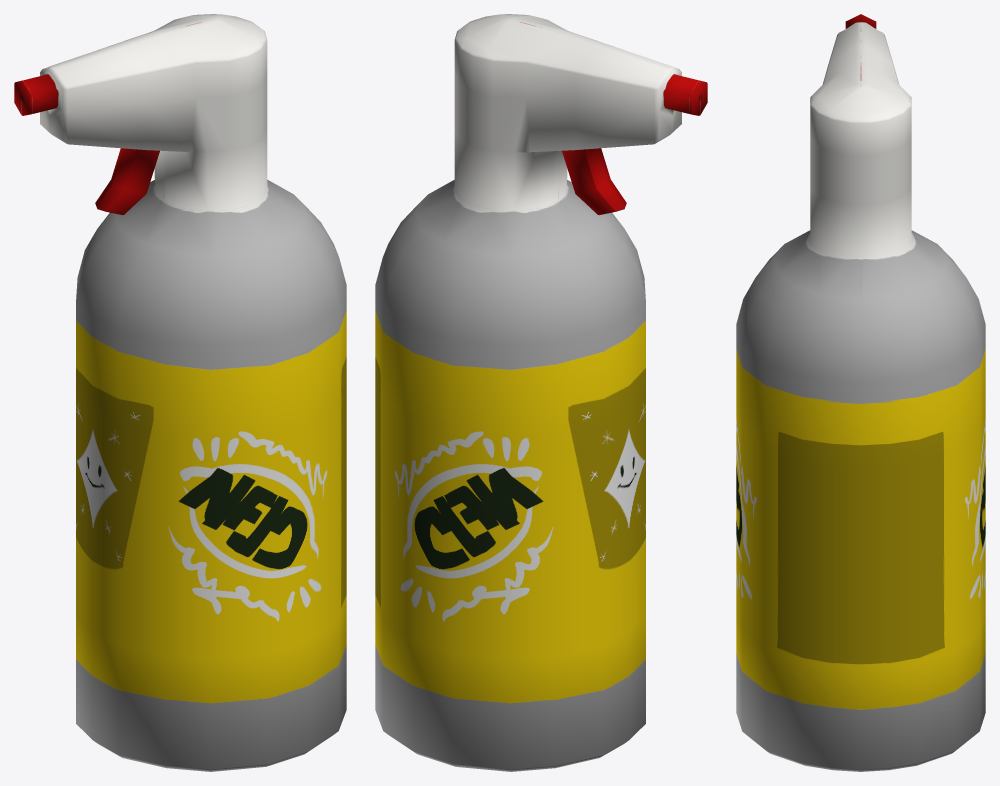
Rendered from bigspraybottle.glb.
3 views of the same model, side by side, from view 1: azimuth 30°, elevation 25°; view 2: azimuth 150°, elevation 25°; view 3: azimuth 270°, elevation 25° (orthographic). The views are drawn at different scales.
Parts seen in each view (by area): view 1: bigspraybottle; view 2: bigspraybottle; view 3: bigspraybottle.
Part boxes in pixels (<box>): bigspraybottle: <box>14,14,346,771</box>; bigspraybottle: <box>375,14,707,771</box>; bigspraybottle: <box>736,14,985,771</box>.
Size of the model in its own units: 1.34 by 2.89 by 1.03.
1 material, 1 textured.
